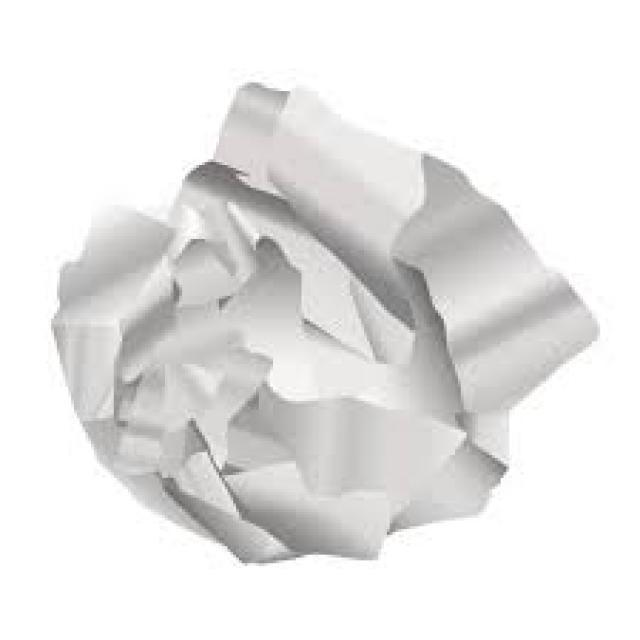trash: (46, 81, 598, 564)
